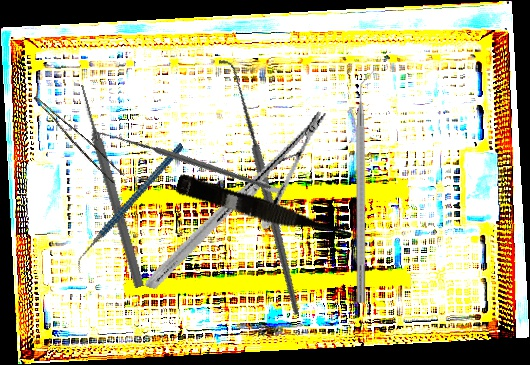Chopper: (48, 142, 213, 274), (356, 69, 378, 303)
Hook Surgical: (157, 57, 362, 318), (90, 68, 273, 257)
Micro Scissor: (173, 173, 361, 252)
Needle Holder: (144, 78, 328, 322)
Pusher: (75, 83, 147, 289)
Tissue Forceps: (24, 95, 127, 186)
